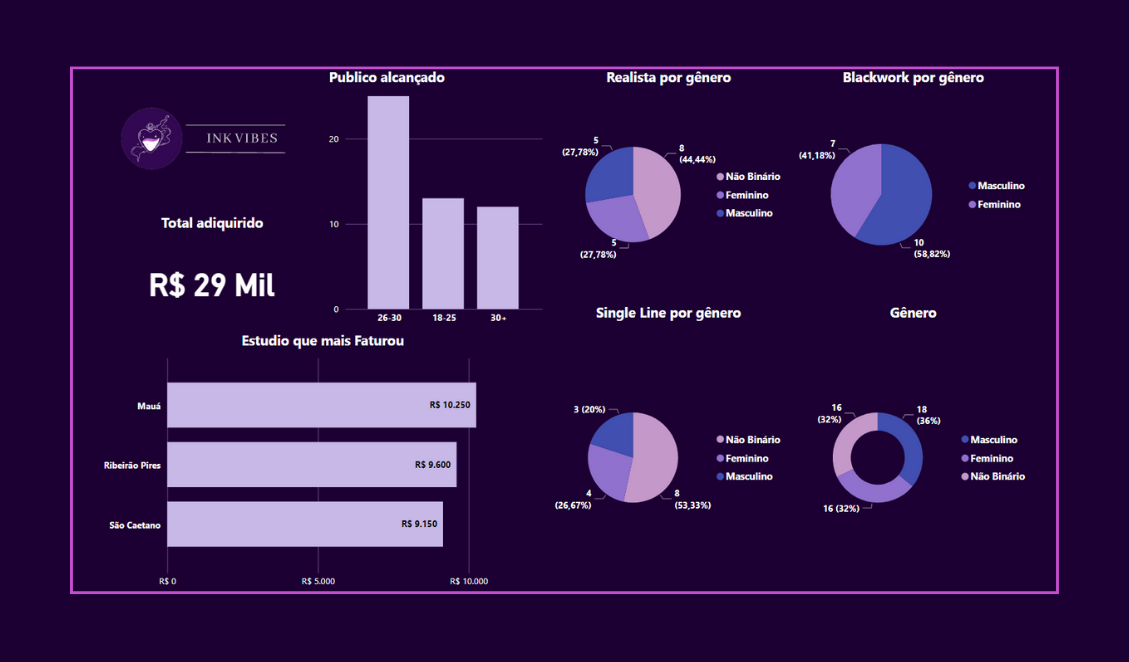

This screenshot's page, from the dashboard's own definition file:
{"tool":"powerbi","page":{"name":"Página 1","canvas":[1280,720],"ordinal":0},"visuals":[{"type":"donutChart","title":"Gênero","fields":{"Y":["CountNonNull(InkVibes (1).cliente)"],"Category":["InkVibes (1).genero"]},"box":[945.6,322.2,334.4,397.8],"z":0},{"type":"clusteredBarChart","title":"Estudio mais procurado","fields":{"Category":["InkVibes (1).cidade"],"Y":["Sum(InkVibes (1).valor_tatuagem)"]},"box":[0,360,611.1,360],"z":1000},{"type":"pieChart","title":"Realista por gênero","fields":{"Category":["InkVibes (1).genero"],"Y":["CountNonNull(InkVibes (1).tipo_tatuagem)"],"Series":["InkVibes (1).tipo_tatuagem"]},"box":[611.1,0,334.4,322.2],"z":2000},{"type":"pieChart","title":"Blackwork por gênero","fields":{"Category":["InkVibes (1).genero"],"Y":["CountNonNull(InkVibes (1).tipo_tatuagem)"],"Series":["InkVibes (1).tipo_tatuagem"]},"box":[945.6,0,334.4,322.2],"z":3000},{"type":"pieChart","title":"Single Line por gênero","fields":{"Category":["InkVibes (1).genero"],"Series":["InkVibes (1).tipo_tatuagem"],"Y":["CountNonNull(InkVibes (1).tipo_tatuagem)"]},"box":[611.1,322.2,334.4,397.8],"z":4000},{"type":"clusteredColumnChart","title":"Publico alcançado","fields":{"Category":["InkVibes (1).FaixaEtaria"],"Y":["CountNonNull(InkVibes (1).cliente)"]},"box":[308.9,0,302.2,360],"z":4001},{"type":"cardVisual","title":"Total adiquirido","fields":{"Data":["Sum(InkVibes (1).valor_tatuagem)"]},"box":[0,198.9,308.9,161.1],"z":4002},{"type":"cardVisual","fields":{"Data":["Min(InkVibes (1).cidade)"]},"box":[0,0,308.9,198.9],"z":4003}]}

Visuals, with their boxes on the page's 1280x720 design canvas (x1, y1, x2, y2). These are canvas units, not pixel positions in the 1129x662 screenshot, which may show the page scaled, cropped or inside an application window:
"Gênero" donutChart: l=946, t=322, r=1280, b=720
"Estudio mais procurado" clusteredBarChart: l=0, t=360, r=611, b=720
"Realista por gênero" pieChart: l=611, t=0, r=946, b=322
"Blackwork por gênero" pieChart: l=946, t=0, r=1280, b=322
"Single Line por gênero" pieChart: l=611, t=322, r=946, b=720
"Publico alcançado" clusteredColumnChart: l=309, t=0, r=611, b=360
"Total adiquirido" cardVisual: l=0, t=199, r=309, b=360
cardVisual - Min(InkVibes (1).cidade): l=0, t=0, r=309, b=199
